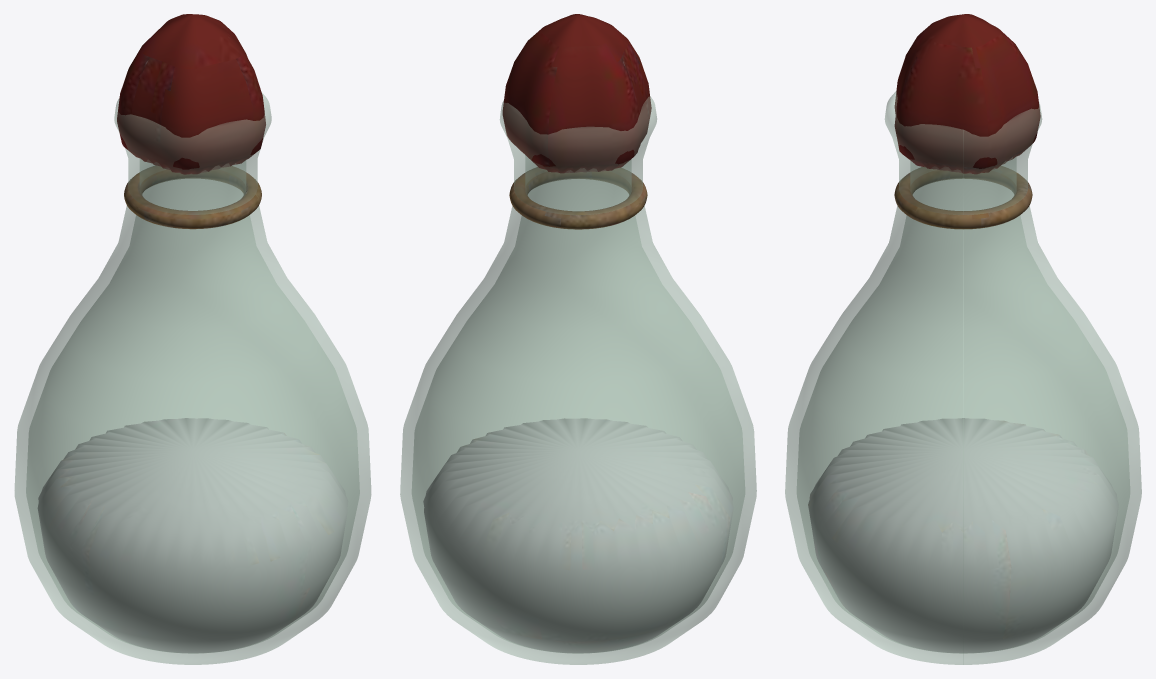
Rendered from mercury.glb.
The picture shows the model from 3 angles, left to right: view 1: azimuth 30°, elevation 25°; view 2: azimuth 150°, elevation 25°; view 3: azimuth 270°, elevation 25°; orthographic projection.
Visible parts, largest first — view 1: glass, mercury; view 2: glass, mercury; view 3: glass, mercury.
Boxes of the visible parts, x1,y1,x2,y2 form: glass: [14, 93, 371, 664]; mercury: [37, 14, 348, 652]; glass: [400, 96, 756, 664]; mercury: [423, 14, 733, 652]; glass: [785, 90, 1141, 664]; mercury: [808, 14, 1118, 652].
Bounding box in the file's own units: 0.0467 × 0.0907 × 0.0467.
2 materials, 1 textured.
